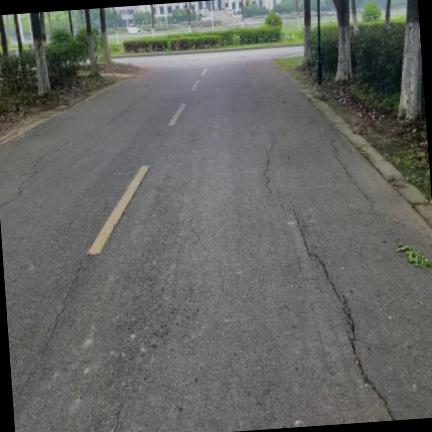Road: (0, 48, 431, 431)
